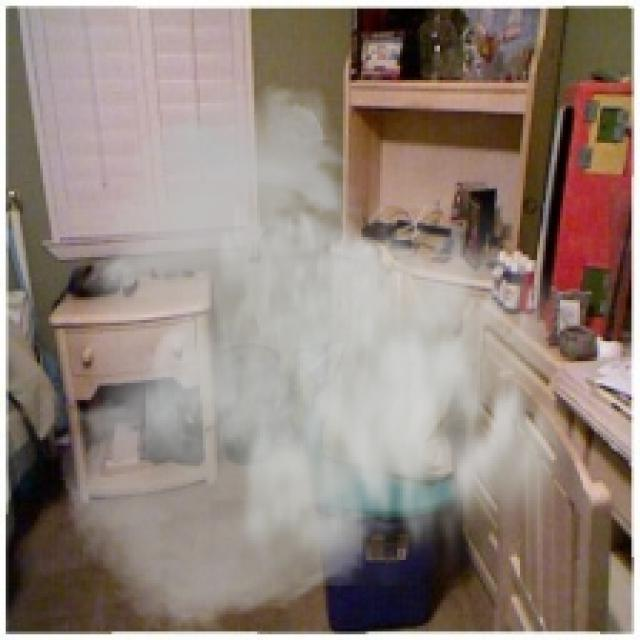Smoke: (57, 77, 597, 637)
